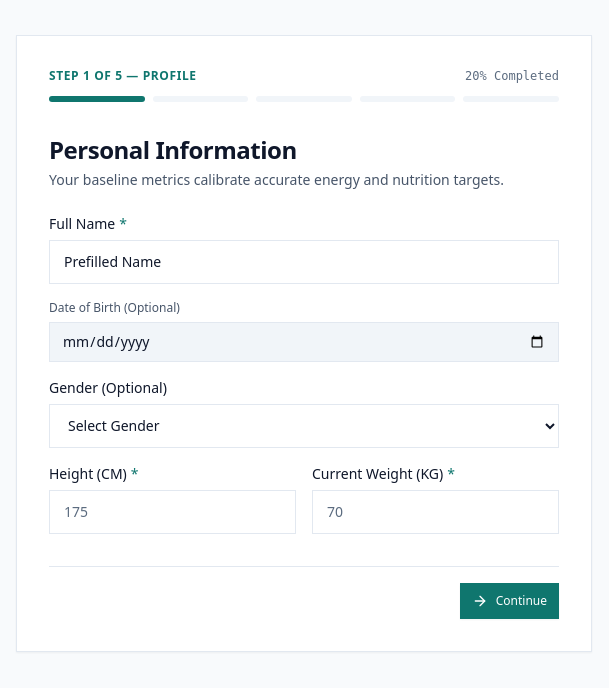
Test: OnboardingPage Wizard › renders Step 1 with prefilled full_name and validates required height_cm and weight_kg
expect the heading "Personal Information" is shown: met, box x1=49 y1=132 x2=297 y2=166
expect the field showing "Prefilled Name" is shown: met, box x1=49 y1=240 x2=559 y2=284
Note: Click Continue without entering height or weight
Step 1. Click the button "Continue" → (509, 600), box x1=460 y1=582 x2=559 y2=618
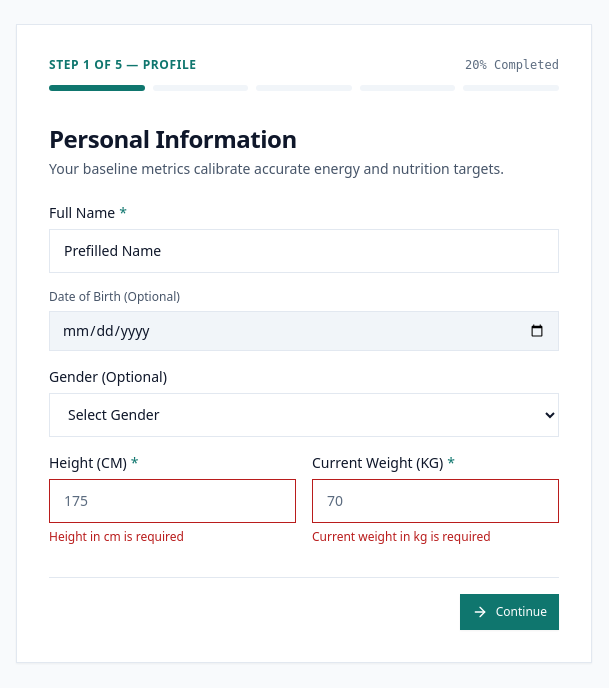
expect the text "Height in cm is required" is shown: met, box x1=49 y1=528 x2=184 y2=544
expect the text "Current weight in kg is required" is shown: met, box x1=312 y1=528 x2=491 y2=544
Note: Enter out-of-range height and weight
Step 2. Type "30" into the number field labelled "Height (CM)*" → (172, 500), box x1=49 y1=478 x2=296 y2=522
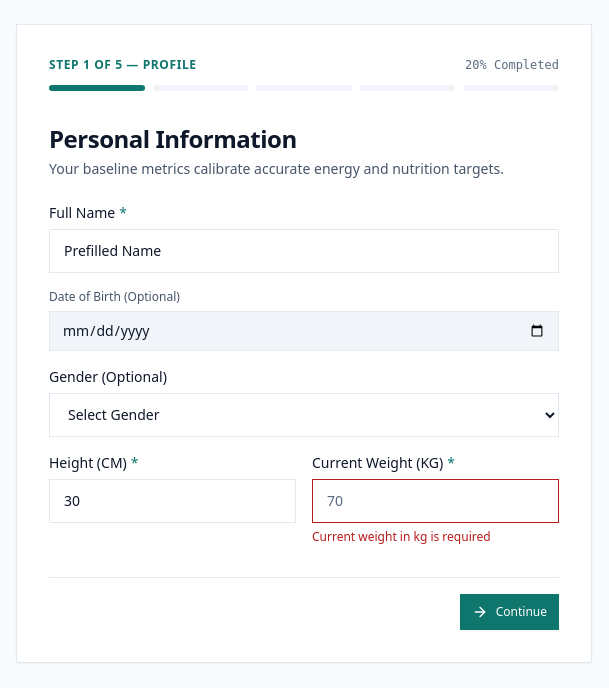
Step 3. Type "10" into the number field labelled "Current Weight (KG)*" → (436, 500), box x1=312 y1=478 x2=559 y2=522
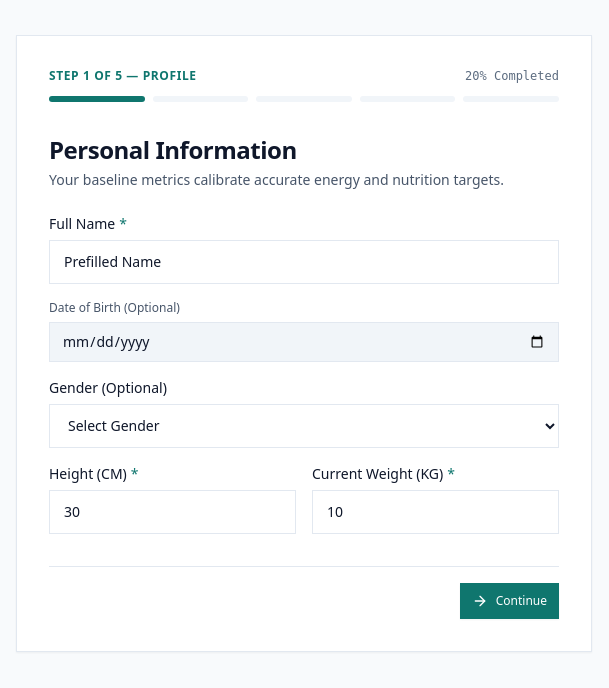
Step 4. Click the button "Continue" → (509, 600), box x1=460 y1=582 x2=559 y2=618
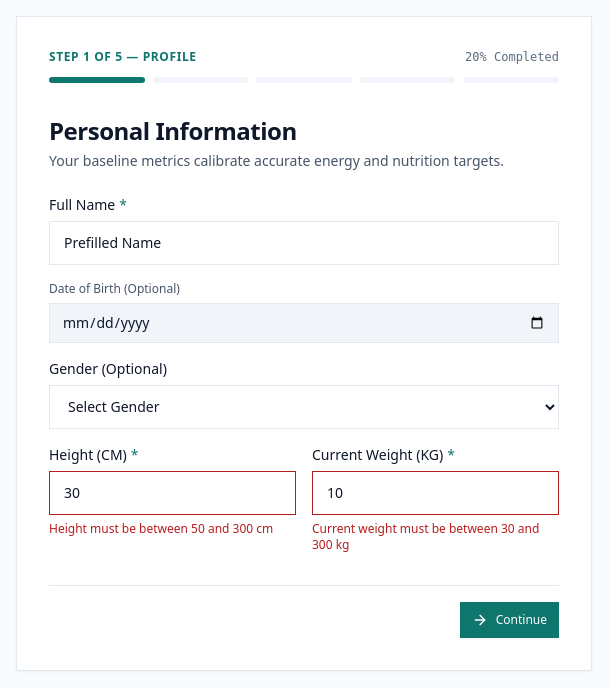
expect the text "Height must be between 50 and 300 cm" is shown: met, box x1=49 y1=520 x2=296 y2=536
expect the text "Current weight must be between 30 and 300 kg" is shown: met, box x1=312 y1=520 x2=559 y2=552
